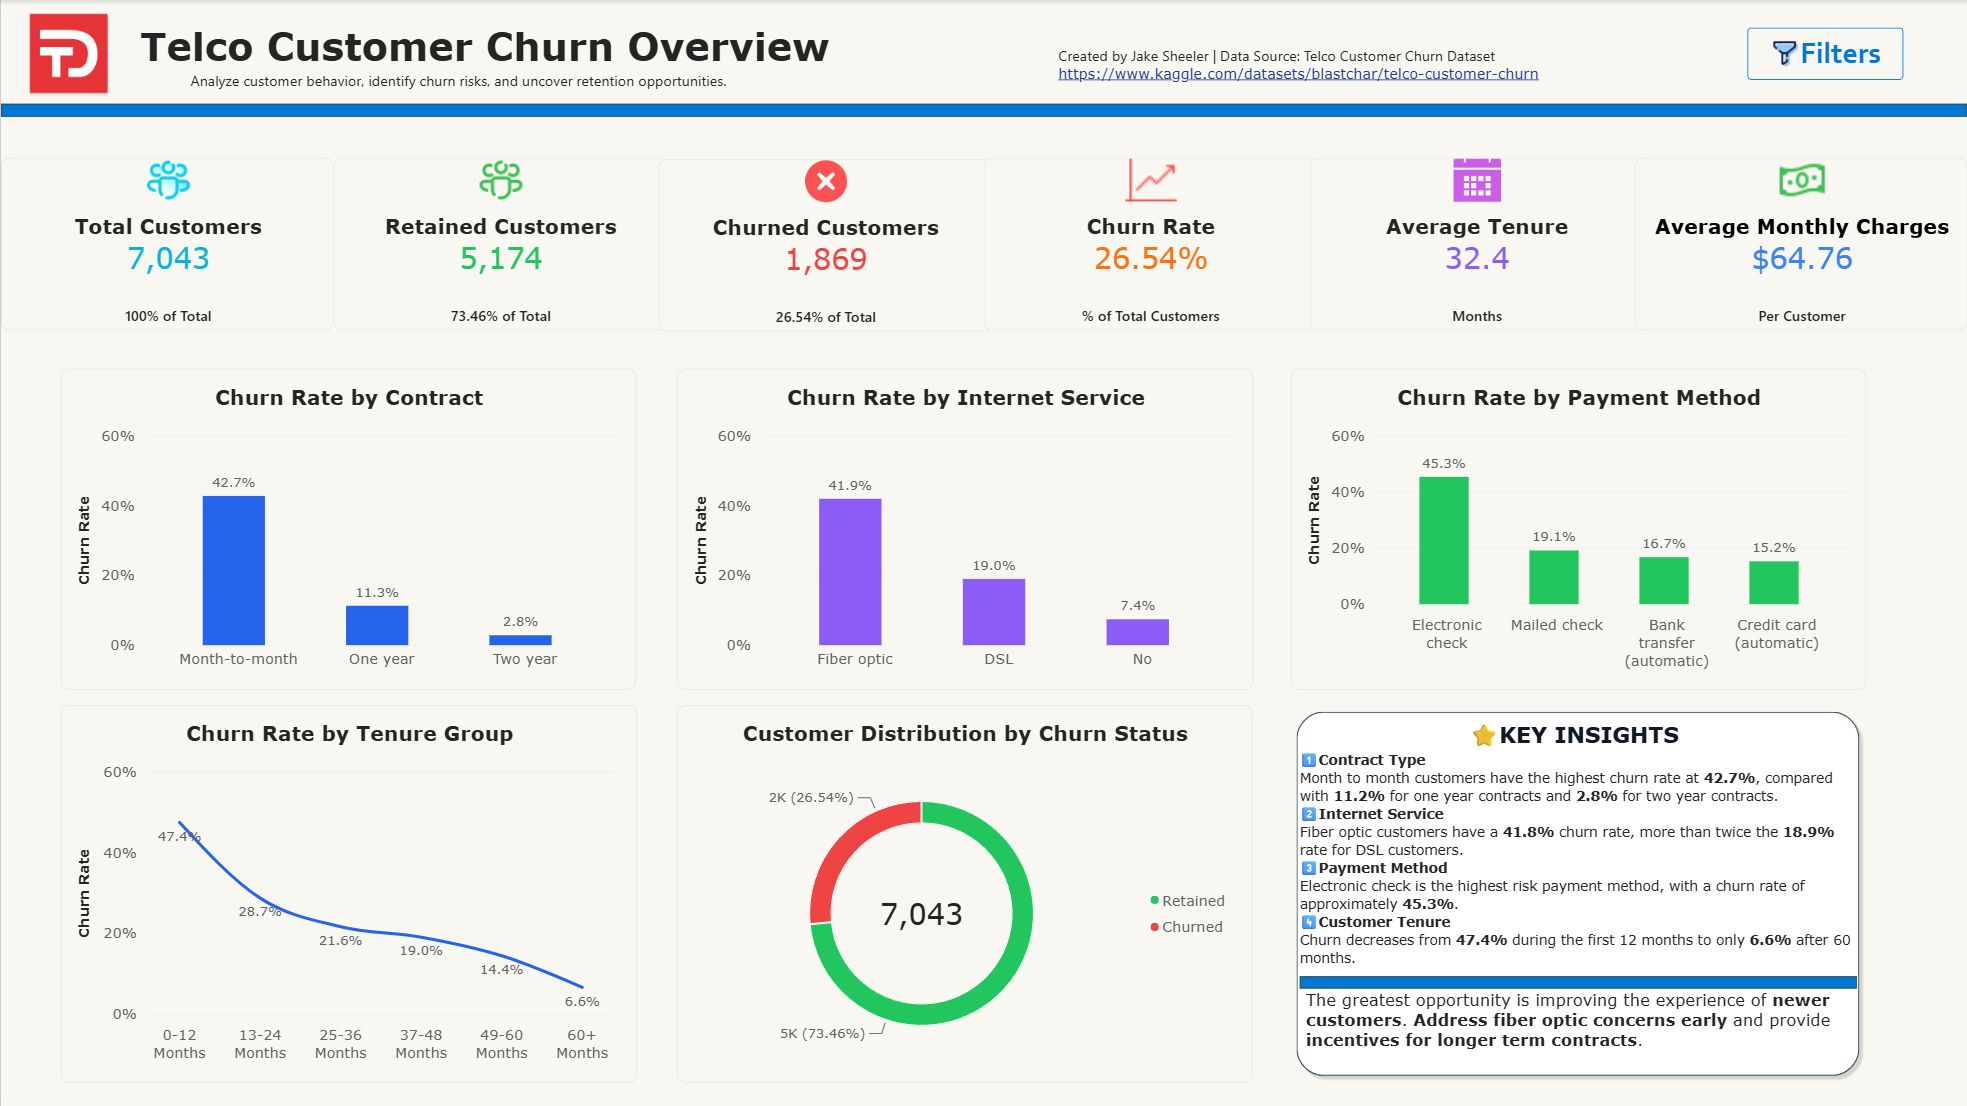

The page's visual inventory and layout, read from the dashboard file:
{"tool":"powerbi","page":{"name":"Telco Churn Overview","canvas":[1920,1080],"ordinal":0},"visuals":[{"type":"shape","box":[1258.5,688.4,562.7,368.6],"z":0},{"type":"textbox","box":[1281.7,701.9,508.6,30.9],"z":1000},{"type":"textbox","title":"Title Text Box","box":[124.7,22.2,696.3,59.3],"z":2000},{"type":"actionButton","title":"Telco Logo as Button","box":[27.6,13.2,76.3,77.6],"z":3000},{"type":"shape","title":"Blue Title Underbar","box":[0,101.3,1920.3,13.2],"z":4000},{"type":"actionButton","title":"Filters Button","box":[1705.3,27,152.6,51.3],"z":5000},{"type":"textbox","box":[124.5,68.4,644.5,39.1],"z":6000},{"type":"cardVisual","fields":{"Data":["Customers.Total Customers"]},"box":[0,154.3,325,169.1],"z":8000},{"type":"cardVisual","fields":{"Data":["Customers.Retained Customers"]},"box":[324.7,154.3,325,169.1],"z":9000},{"type":"cardVisual","fields":{"Data":["Customers.Churned Customers"]},"box":[642.3,155.6,325,169.1],"z":10000},{"type":"cardVisual","fields":{"Data":["Customers.Churn Rate"]},"box":[959.9,154.3,325,169.1],"z":11000},{"type":"cardVisual","fields":{"Data":["Customers.Average Tenure (Months)"]},"box":[1277.5,154.3,325,169.1],"z":12000},{"type":"cardVisual","fields":{"Data":["Customers.Average Monthly Charges"]},"box":[1595,154.3,325,169.1],"z":13000},{"type":"clusteredColumnChart","title":"Churn Rate by Contract","fields":{"Category":["Customers.Contract"],"Y":["Customers.Churn Rate"]},"box":[58.6,360.1,561.5,313.7],"z":14000},{"type":"clusteredColumnChart","title":"Churn Rate by Internet Service","fields":{"Y":["Customers.Churn Rate"],"Category":["Customers.Internet Service"]},"box":[660.4,360.1,562.7,313.7],"z":15000},{"type":"clusteredColumnChart","title":"Churn Rate by Payment Method","fields":{"Y":["Customers.Churn Rate"],"Category":["Customers.Payment Method"]},"box":[1259.7,360.1,561.5,313.7],"z":16000},{"type":"lineChart","title":"Churn Rate by Tenure Group","fields":{"Category":["Customers.Tenure Group"],"Y":["Customers.Churn Rate"]},"box":[58.6,688.4,562.7,368.6],"z":17000},{"type":"donutChart","title":"Customer Distribution by Churn Status","fields":{"Y":["CountNonNull(Customers.Customer ID)"],"Category":["Customers.Churn Status"]},"box":[660.4,688.4,561.5,368.6],"z":18000},{"type":"textbox","box":[1268.2,732.4,544.4,249],"z":19000},{"type":"shape","title":"Blue Title Underbar","box":[1268.2,953.3,544.4,12],"z":20000},{"type":"textbox","box":[1274.3,966.7,516.3,69.6],"z":21000},{"type":"textbox","box":[1032.6,43.9,585.9,37.8],"z":22000}]}

Visuals, with their boxes in screenshot pixels (x1, y1, x2, y2), scaled from the page's 1920x1080 canvas onto the 1967x1106 screenshot:
shape: [left=1289, top=705, right=1866, bottom=1082]
textbox: [left=1313, top=719, right=1834, bottom=750]
"Title Text Box" textbox: [left=128, top=23, right=841, bottom=83]
"Telco Logo as Button" actionButton: [left=28, top=14, right=106, bottom=93]
"Blue Title Underbar" shape: [left=0, top=104, right=1966, bottom=117]
"Filters Button" actionButton: [left=1747, top=28, right=1903, bottom=80]
textbox: [left=128, top=70, right=788, bottom=110]
cardVisual - Customers.Total Customers: [left=0, top=158, right=333, bottom=331]
cardVisual - Customers.Retained Customers: [left=333, top=158, right=666, bottom=331]
cardVisual - Customers.Churned Customers: [left=658, top=159, right=991, bottom=333]
cardVisual - Customers.Churn Rate: [left=983, top=158, right=1316, bottom=331]
cardVisual - Customers.Average Tenure (Months): [left=1309, top=158, right=1642, bottom=331]
cardVisual - Customers.Average Monthly Charges: [left=1634, top=158, right=1966, bottom=331]
"Churn Rate by Contract" clusteredColumnChart: [left=60, top=369, right=635, bottom=690]
"Churn Rate by Internet Service" clusteredColumnChart: [left=677, top=369, right=1253, bottom=690]
"Churn Rate by Payment Method" clusteredColumnChart: [left=1291, top=369, right=1866, bottom=690]
"Churn Rate by Tenure Group" lineChart: [left=60, top=705, right=637, bottom=1082]
"Customer Distribution by Churn Status" donutChart: [left=677, top=705, right=1252, bottom=1082]
textbox: [left=1299, top=750, right=1857, bottom=1005]
"Blue Title Underbar" shape: [left=1299, top=976, right=1857, bottom=989]
textbox: [left=1305, top=990, right=1834, bottom=1061]
textbox: [left=1058, top=45, right=1658, bottom=84]
